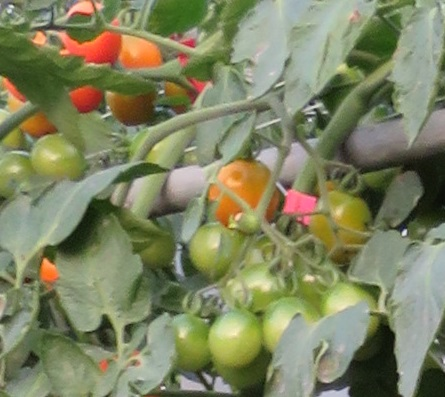green: (226, 259, 287, 310), (28, 128, 85, 177), (186, 219, 237, 272), (211, 308, 260, 363), (172, 311, 212, 373), (2, 147, 42, 203), (264, 293, 322, 326)
orange: (209, 162, 277, 220)
